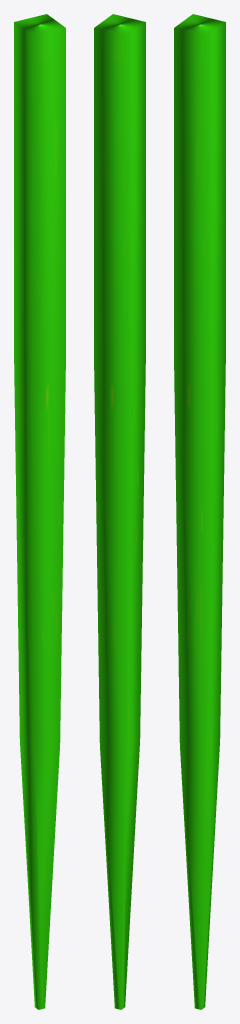
File: bullet.dae
3 views of the same model, side by side, from view 1: azimuth 30°, elevation 25°; view 2: azimuth 150°, elevation 25°; view 3: azimuth 330°, elevation 25° (orthographic).
Visible parts, largest first — view 1: bullet; view 2: bullet; view 3: bullet.
Boxes of the visible parts, x1,y1,x2,y2 form: bullet: [14, 14, 65, 1009]; bullet: [94, 14, 145, 1009]; bullet: [174, 14, 225, 1009].
Size of the model in its own units: 0.0452 by 0.0452 by 1.29.
